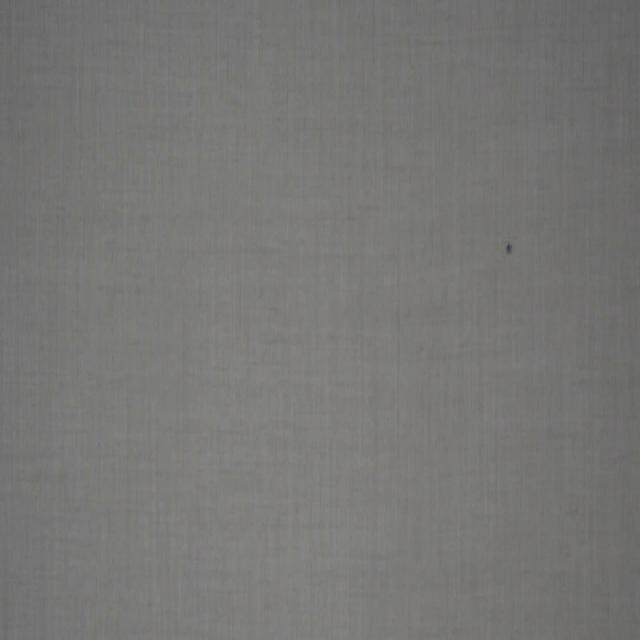dirty: (505, 243, 513, 254)
